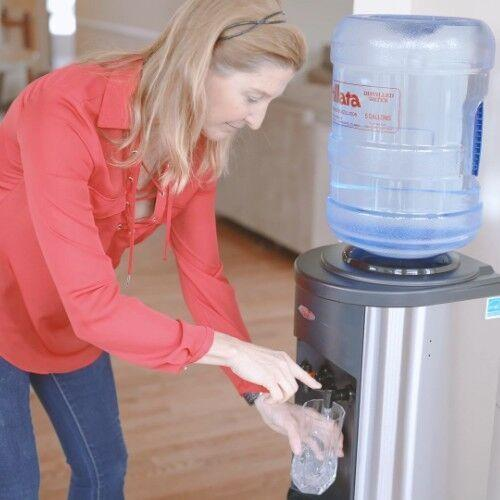Dispenser: (287, 13, 499, 499)
